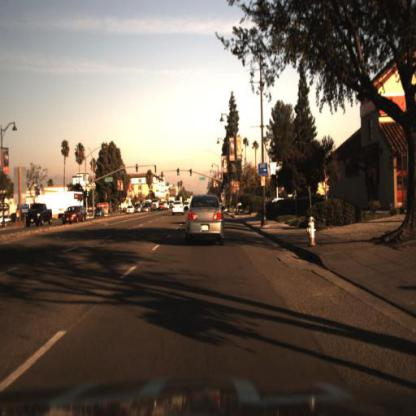car: (185, 194, 225, 248), (25, 202, 51, 225), (61, 205, 84, 226), (167, 198, 186, 216), (63, 206, 81, 221), (93, 204, 107, 220), (81, 204, 91, 226), (94, 204, 105, 223)
trafficLight-Green: (173, 166, 182, 180), (220, 179, 226, 192), (188, 167, 193, 180)
